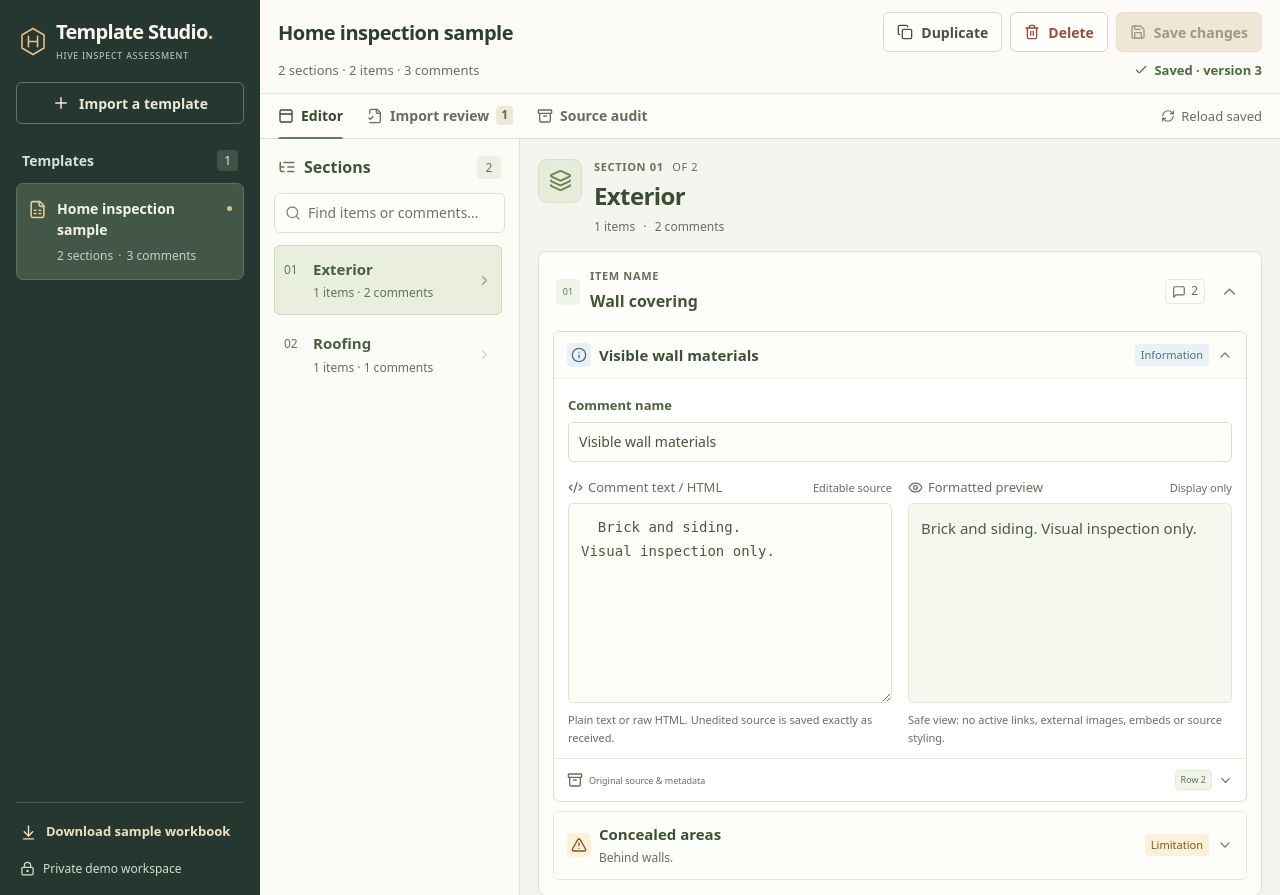
Test: end-to-end client state with unit-test API mocks › keeps a failed-save draft editable and clears dirty tracking when the user reverts it
Replace the text in the field named "Template name" with "Quota draft" at (568, 32), box [273,14,862,50]
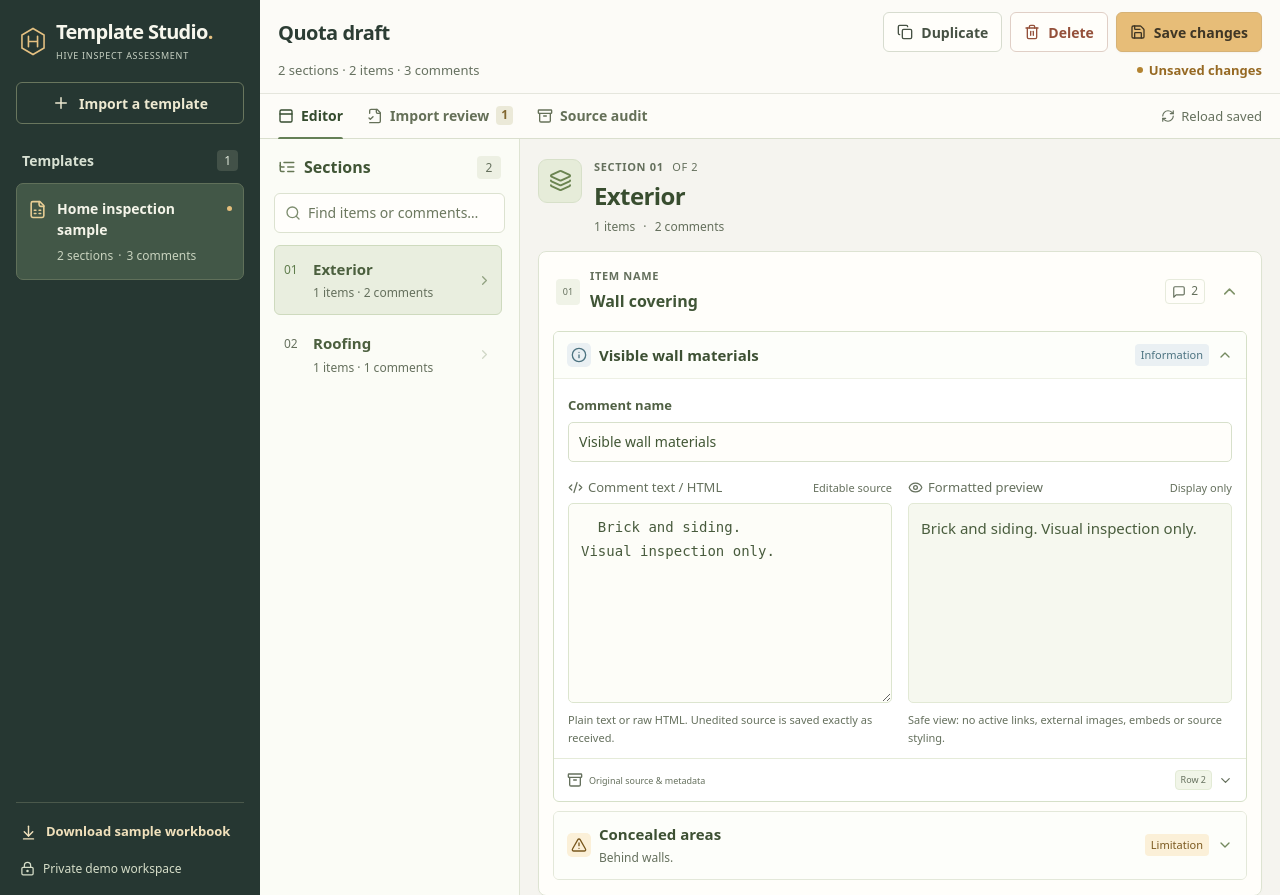
Click the button "Save changes" at (1189, 32), box [1116,12,1262,52]
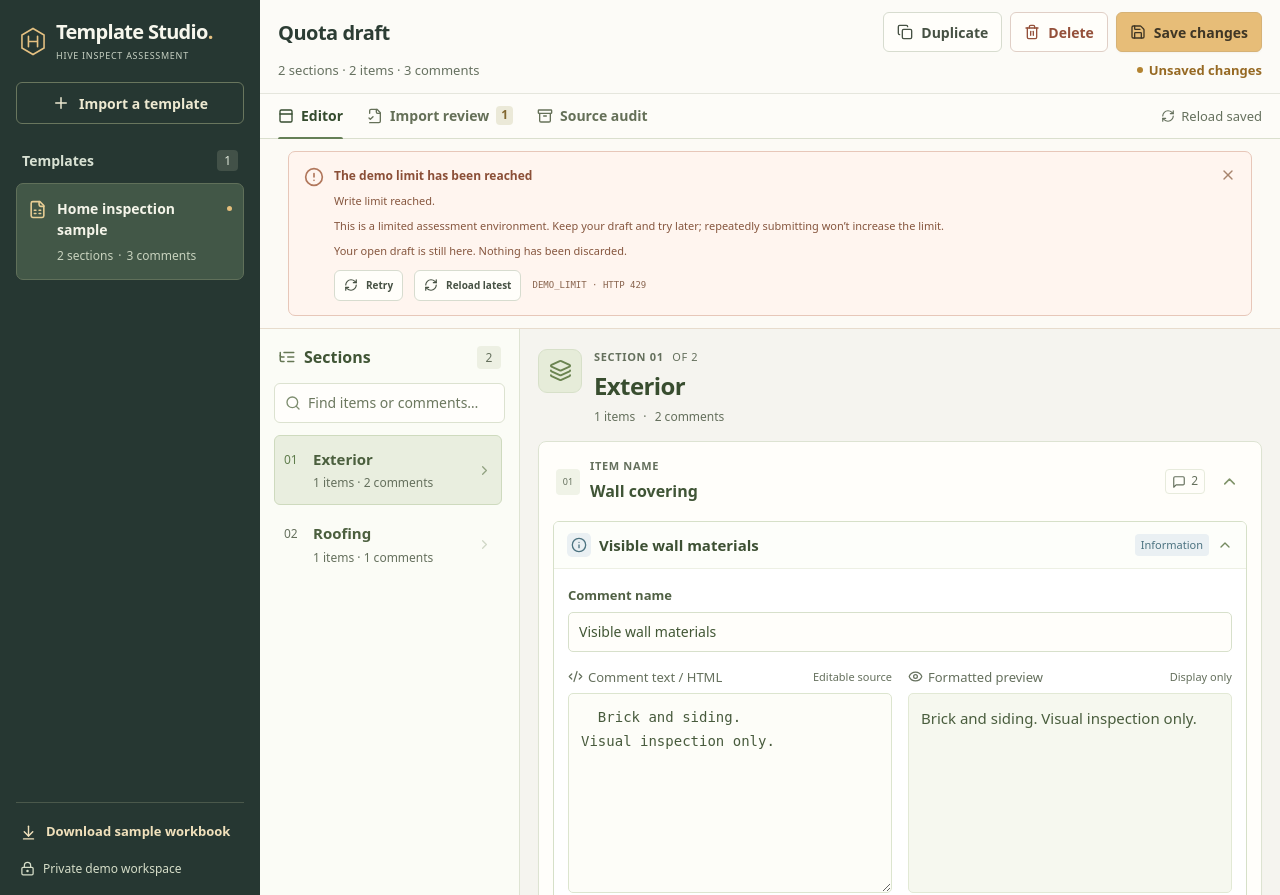
Now the message that starts with "The demo limit has been reached" is shown, box [334,167,532,184]
Replace the text in the field named "Template name" with "Home inspection sample" at (568, 32), box [273,14,862,50]
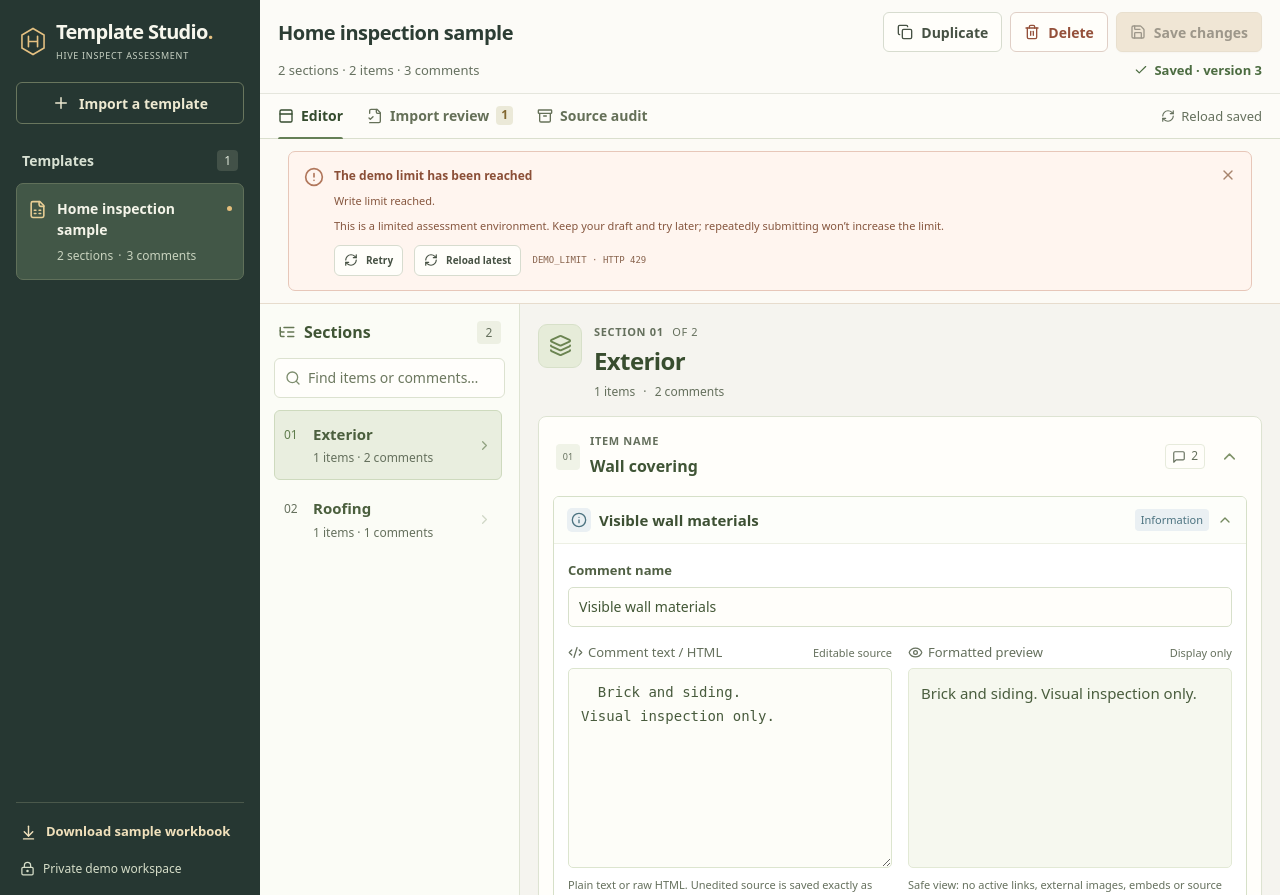
Now the button "Save changes" is disabled, box [1116,12,1262,52]
